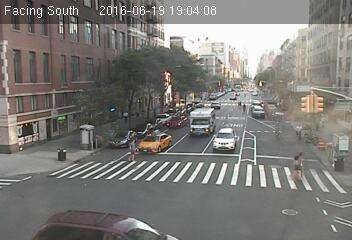neg: (261, 111, 287, 145), (325, 128, 346, 156), (220, 137, 240, 164), (329, 149, 346, 173), (195, 113, 212, 136), (139, 138, 154, 158)
pos: (285, 144, 312, 181), (124, 137, 142, 161), (117, 107, 133, 129), (291, 120, 304, 139)
